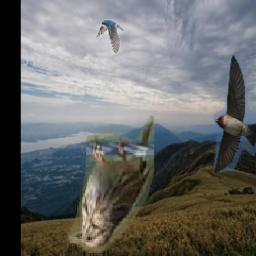Sparrow: (67, 117, 154, 254)
Swallow: (213, 54, 256, 173), (94, 19, 124, 53)
